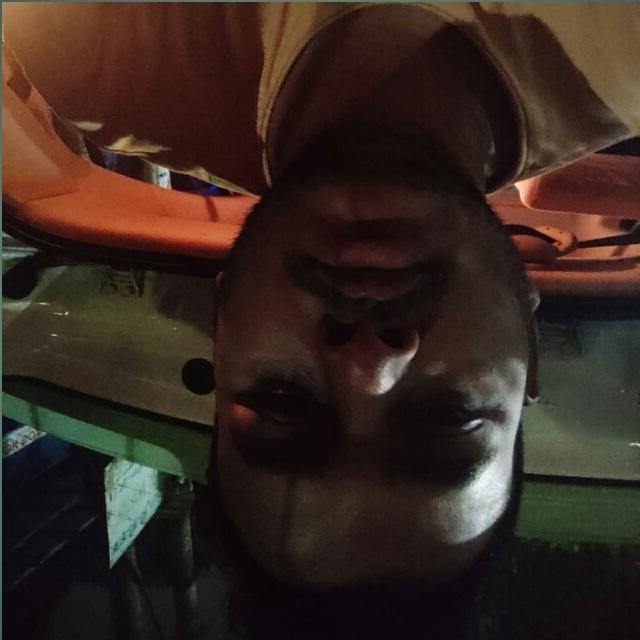Angry: (159, 69, 600, 606)
